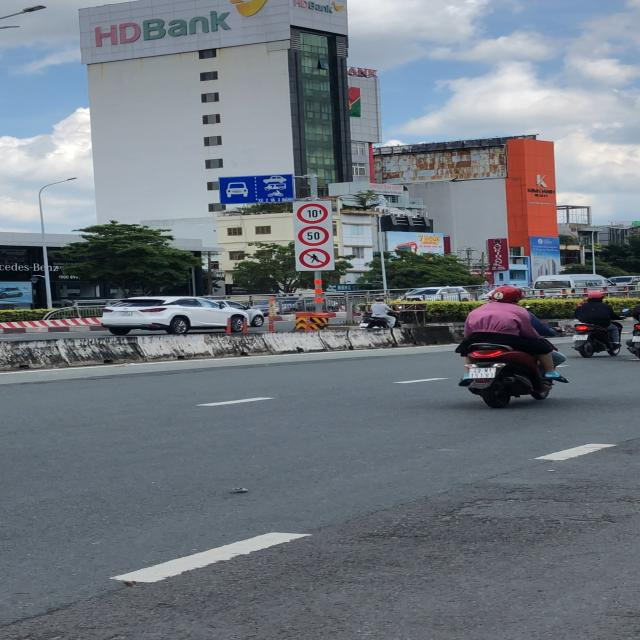Bien bao cam nguoi di bo: (296, 247, 332, 270)
Bien bao toc do toi da cho phep: (297, 224, 329, 245)
